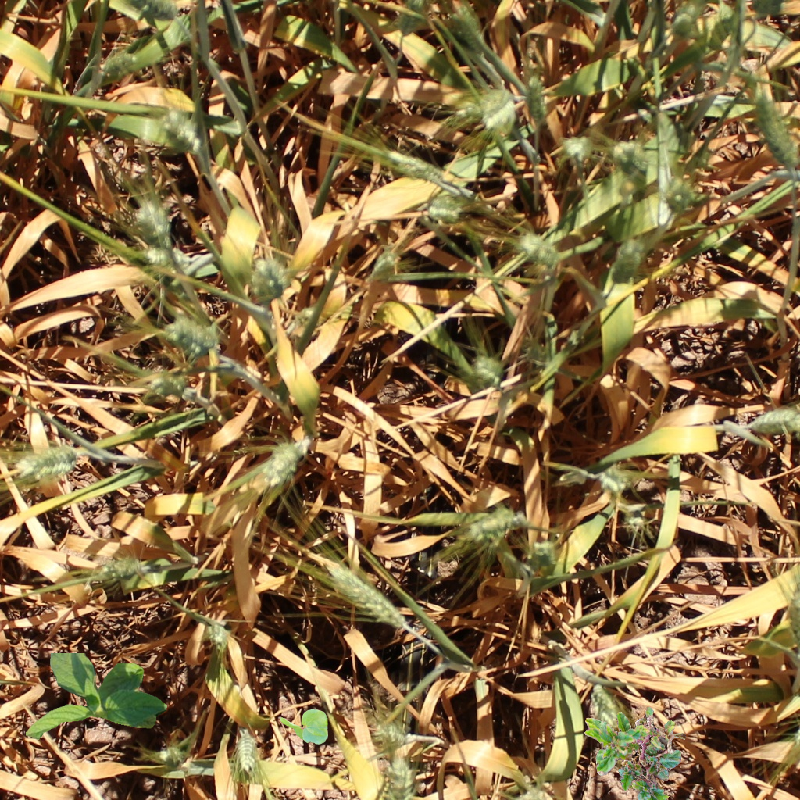spikelet: (324, 558, 411, 633), (750, 86, 799, 169), (12, 440, 79, 484), (161, 311, 223, 357), (258, 434, 310, 488), (383, 145, 448, 186), (462, 502, 523, 545), (444, 1, 490, 57), (156, 104, 205, 155), (245, 252, 293, 302), (126, 196, 175, 244), (473, 84, 520, 134), (86, 553, 150, 588), (367, 712, 416, 757), (608, 234, 651, 285), (513, 227, 563, 269), (460, 347, 507, 391), (519, 65, 552, 125), (376, 754, 419, 800), (422, 184, 469, 226), (94, 44, 142, 85), (586, 680, 623, 730), (660, 172, 704, 213), (556, 129, 599, 170), (523, 536, 562, 581), (748, 403, 799, 437), (142, 366, 189, 402), (607, 135, 651, 170), (284, 304, 320, 344), (231, 727, 262, 773), (596, 462, 633, 496), (122, 1, 184, 18), (156, 742, 190, 770), (511, 782, 562, 800), (203, 618, 232, 648)
weed: (563, 677, 709, 800), (26, 653, 167, 740), (280, 709, 328, 745)
